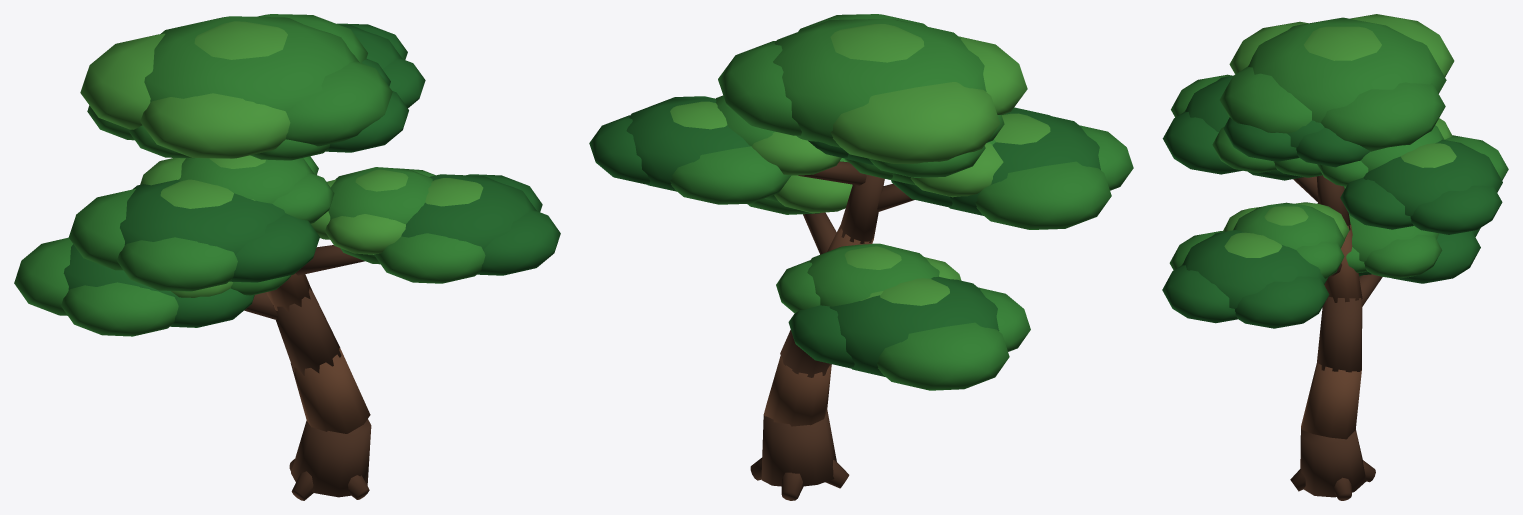
Rendered from nogita_black_pine.glb.
3 views of the same model, side by side, from view 1: azimuth 30°, elevation 25°; view 2: azimuth 150°, elevation 25°; view 3: azimuth 270°, elevation 25° (orthographic). The views are drawn at different scales.
Parts seen in each view (by area): view 1: Cone; view 2: Cone; view 3: Cone.
Part boxes in pixels (bbox=[...]): Cone: bbox=[14, 14, 560, 500]; Cone: bbox=[589, 14, 1133, 500]; Cone: bbox=[1162, 14, 1508, 500].
Bounding box in the file's own units: 3.69 × 3.73 × 2.83.
